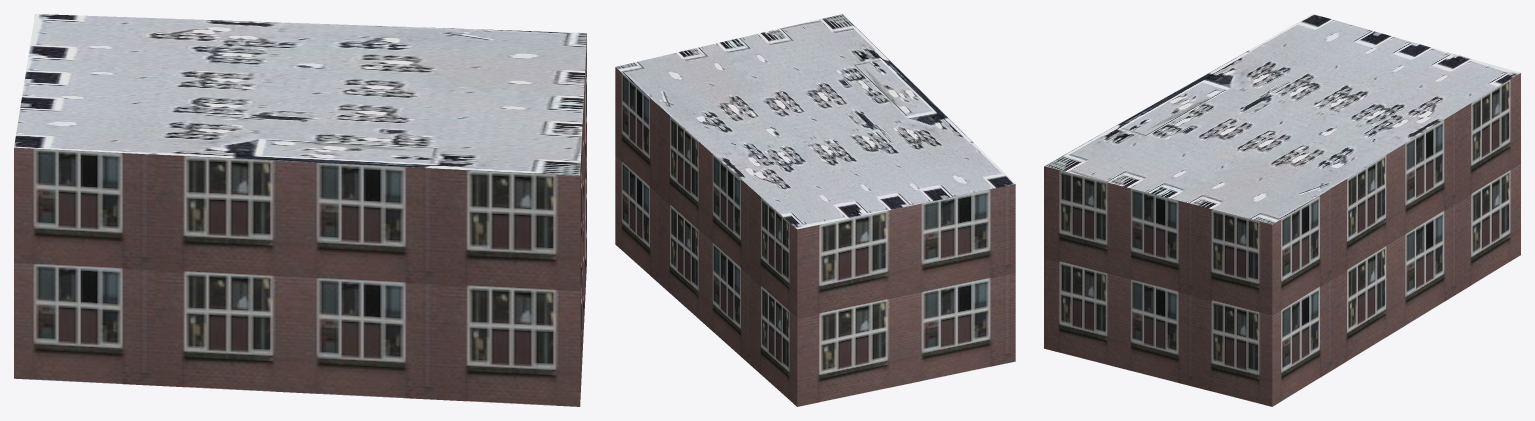
File: ResTex__947.fbx
The picture shows the model from 3 angles, left to right: view 1: azimuth 30°, elevation 25°; view 2: azimuth 150°, elevation 25°; view 3: azimuth 270°, elevation 25°; orthographic projection. The views are drawn at different scales.
Visible parts, largest first — view 1: CityEngineMaterial_12_m, CityEngineMaterial_4_m; view 2: CityEngineMaterial_12_m, CityEngineMaterial_4_m; view 3: CityEngineMaterial_12_m, CityEngineMaterial_4_m.
Boxes of the visible parts, bbox=[...] form: CityEngineMaterial_12_m: bbox=[14, 36, 586, 406]; CityEngineMaterial_4_m: bbox=[14, 14, 586, 175]; CityEngineMaterial_12_m: bbox=[615, 67, 1015, 406]; CityEngineMaterial_4_m: bbox=[616, 14, 1015, 229]; CityEngineMaterial_12_m: bbox=[1044, 73, 1520, 406]; CityEngineMaterial_4_m: bbox=[1044, 14, 1520, 224].
Size of the model in its own units: 14.86 by 6 by 14.22.
2 materials, 2 textured.
